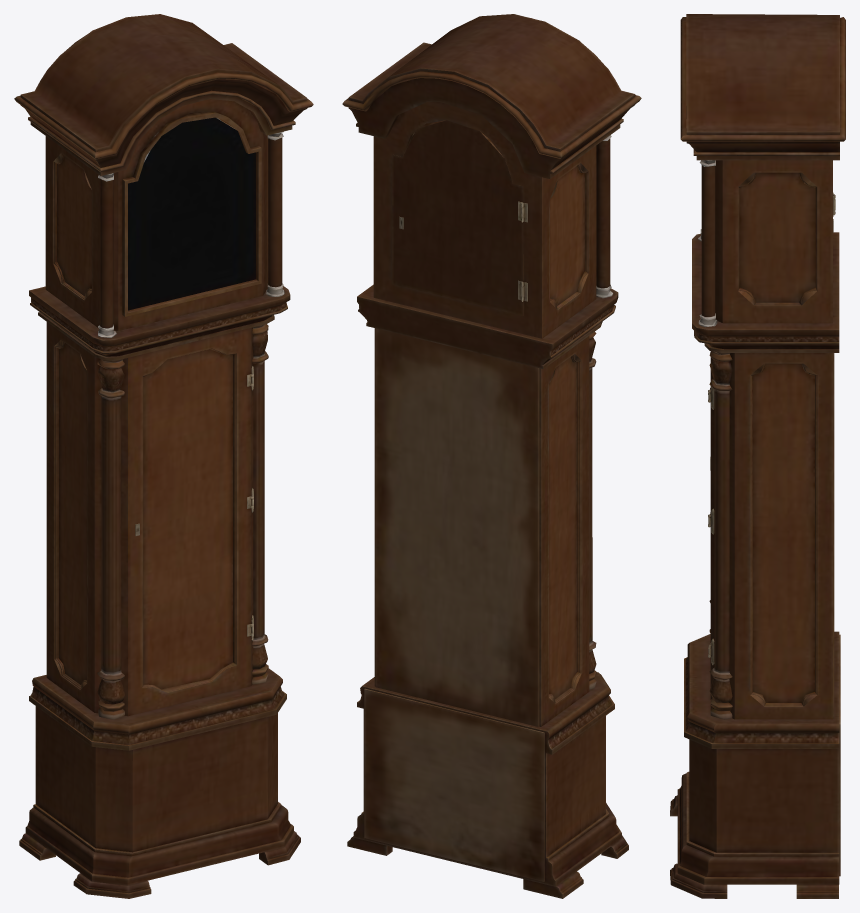
Rendered from ph2_vintage_grandfather_clock_01.glb.
3 renders of one model, left to right at view 1: azimuth 30°, elevation 25°; view 2: azimuth 150°, elevation 25°; view 3: azimuth 270°, elevation 25°, orthographic. The views are drawn at different scales.
Size of the model in its own units: 0.6256 by 2.19 by 0.4267.
Materials: 2 (2 with a texture image).
